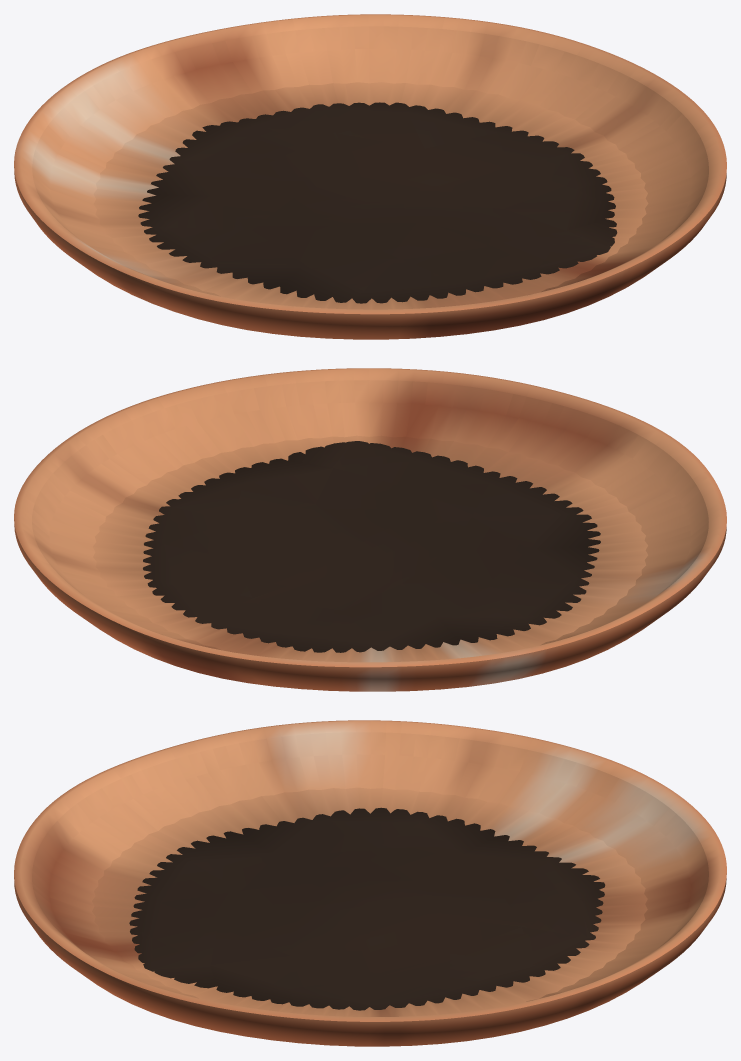
Rendered from canopy_saucer.glb.
The picture shows the model from 3 angles, top to bottom: view 1: azimuth 30°, elevation 25°; view 2: azimuth 150°, elevation 25°; view 3: azimuth 270°, elevation 25°; orthographic projection.
Visible parts, largest first — view 1: canopy_saucer; view 2: canopy_saucer; view 3: canopy_saucer.
Part boxes in pixels (<box>): canopy_saucer: <box>14,14,726,339</box>; canopy_saucer: <box>14,368,726,691</box>; canopy_saucer: <box>14,720,726,1046</box>.
Bounding box in the file's own units: 9.84 × 0.9971 × 9.86.
